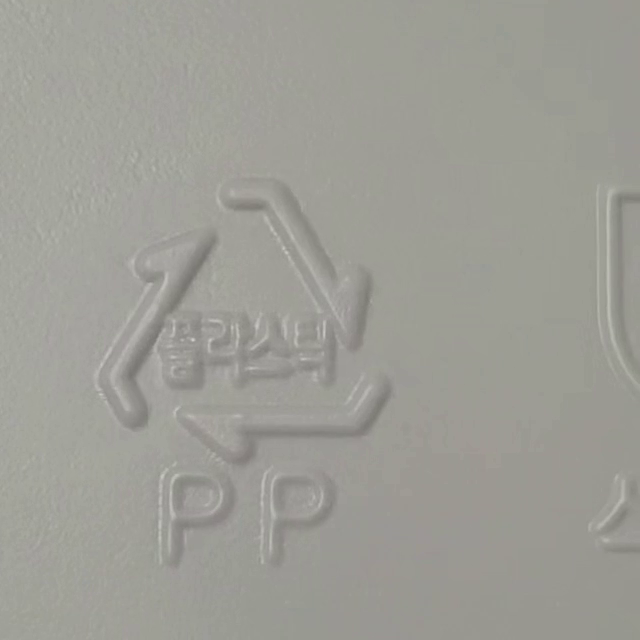Plastic: (99, 178, 390, 465)
